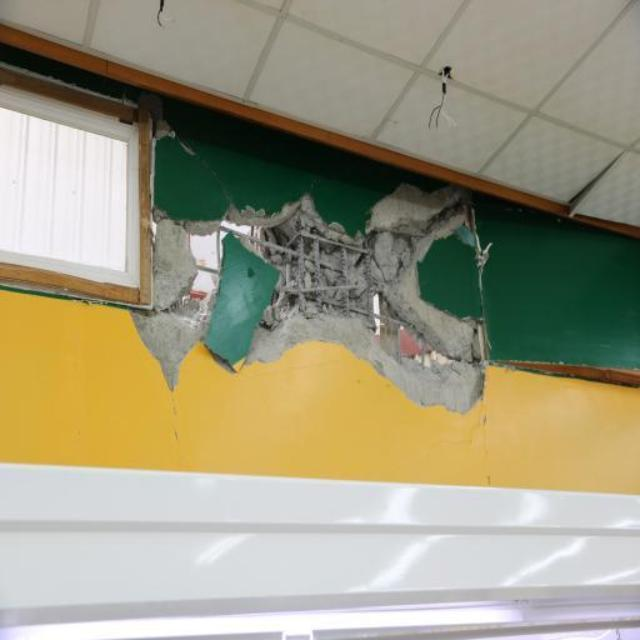D0w0: (134, 182, 485, 413)
